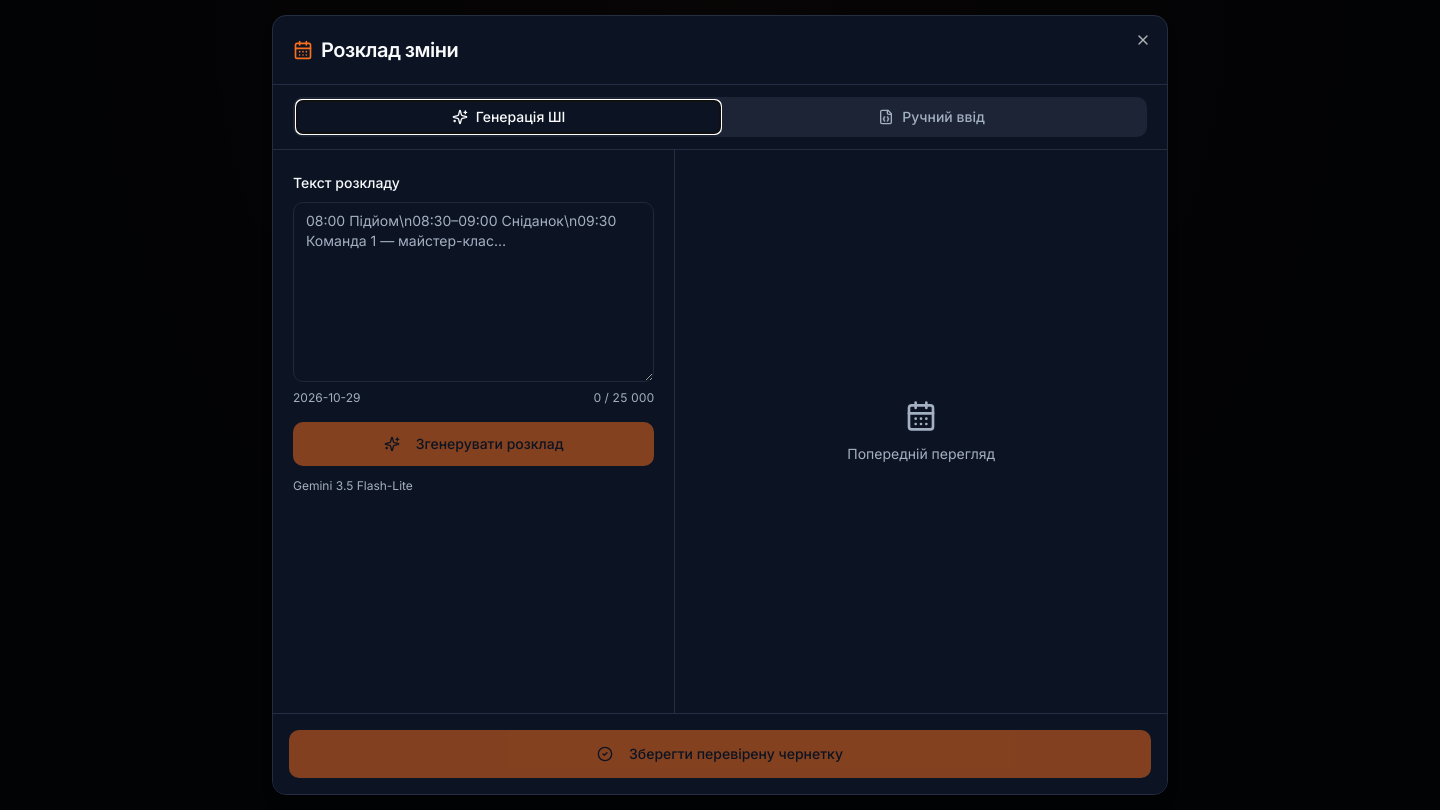
Test: admin schedule preview flow › shows complete events while generation is still running and blocks draft saving
Later steps or results of the test are not shown.
Step 1. Replace the text in the text box labelled "Текст розкладу" with "08:00 Підйом" → (474, 292), box [293,202,654,382]
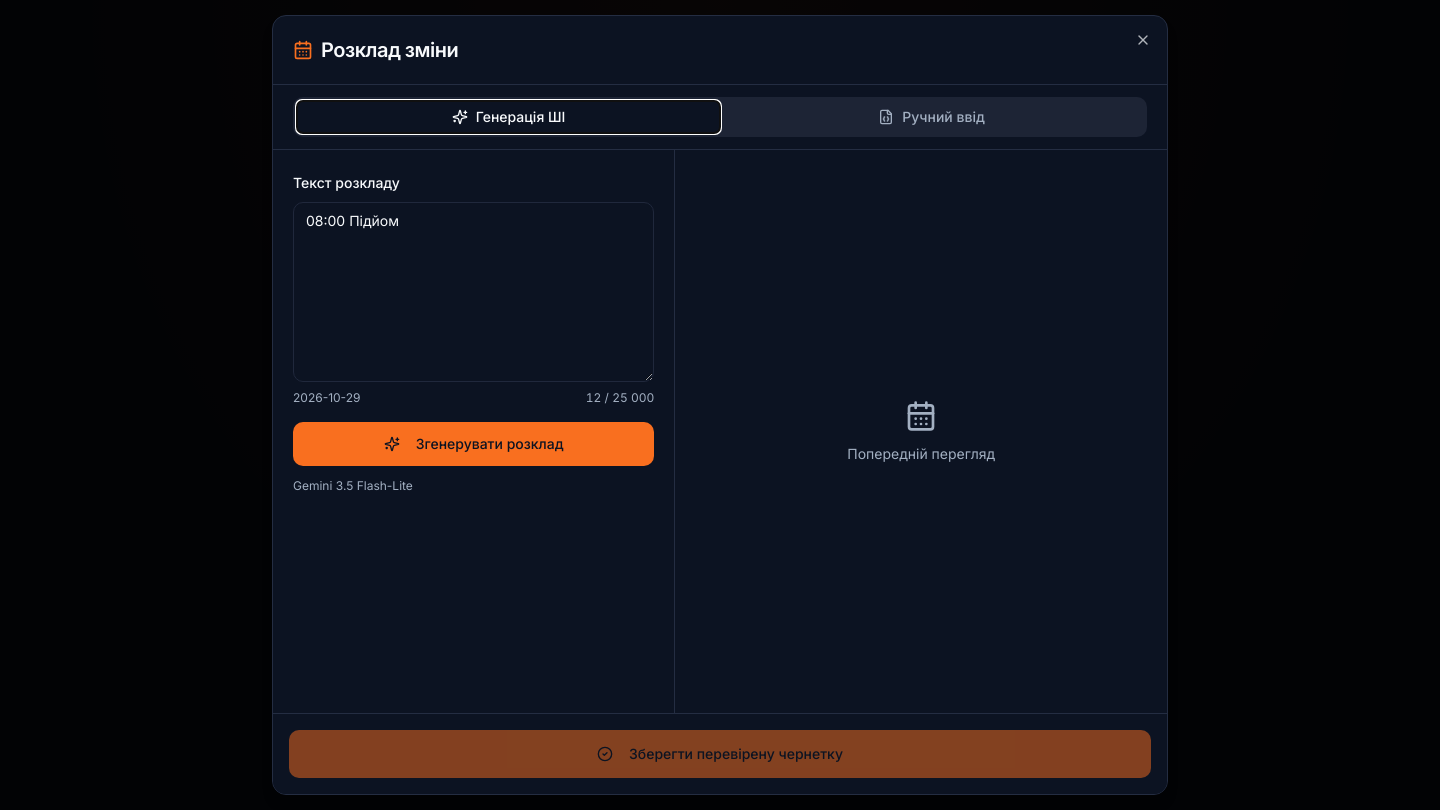
Step 2. Click the button "Згенерувати розклад" → (474, 444), box [293,422,654,466]
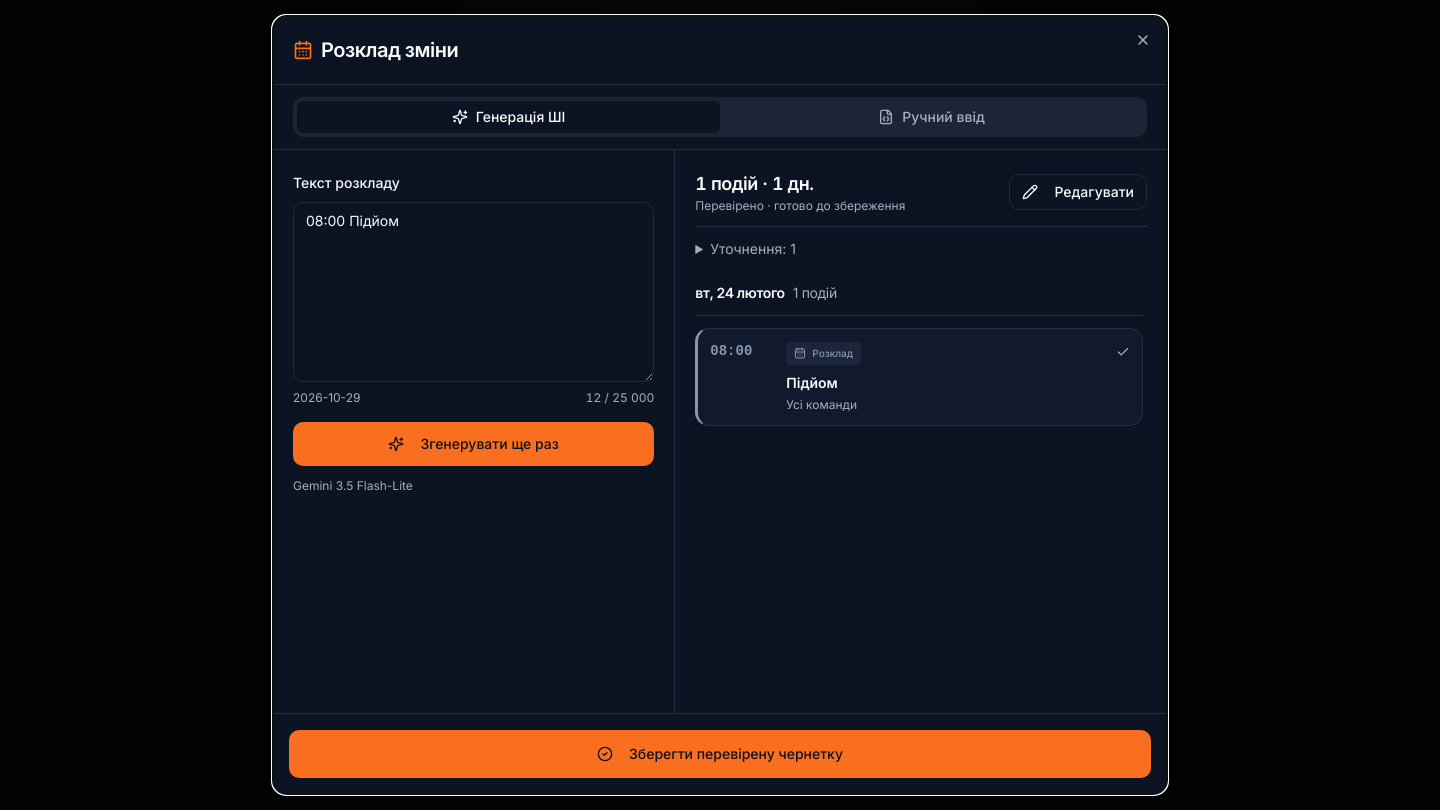
Now the text "Підйом" is shown, box [786,374,838,390]
Now the button "Зберегти перевірену чернетку" is enabled, box [289,730,1151,778]
